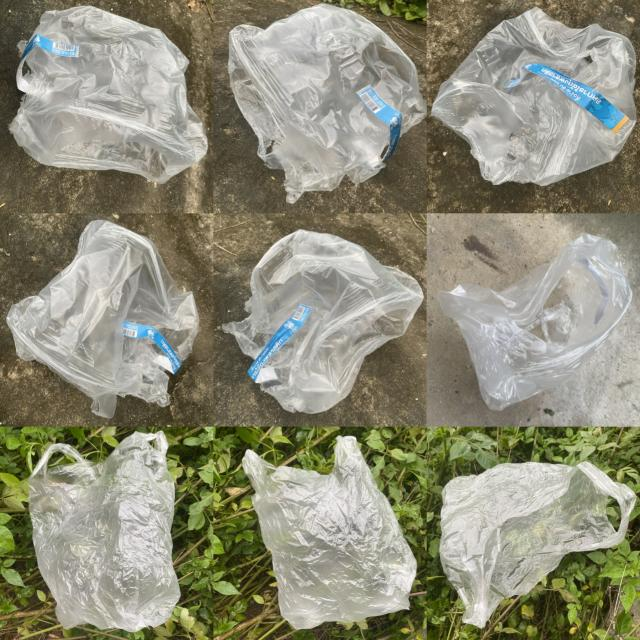Single-layer Plastic: (229, 4, 426, 202), (6, 220, 199, 418), (431, 8, 636, 186), (224, 230, 422, 413), (10, 6, 208, 183), (439, 234, 631, 410), (242, 436, 416, 629), (440, 462, 636, 628), (28, 431, 180, 631)
